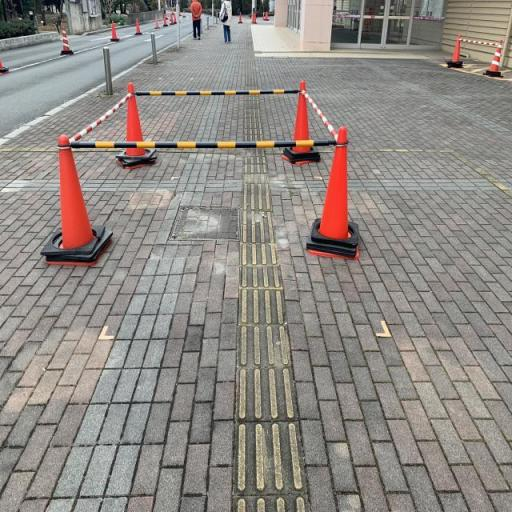line: (232, 419, 307, 496), (236, 368, 299, 420), (236, 324, 292, 368), (239, 287, 287, 325), (231, 495, 311, 511)
